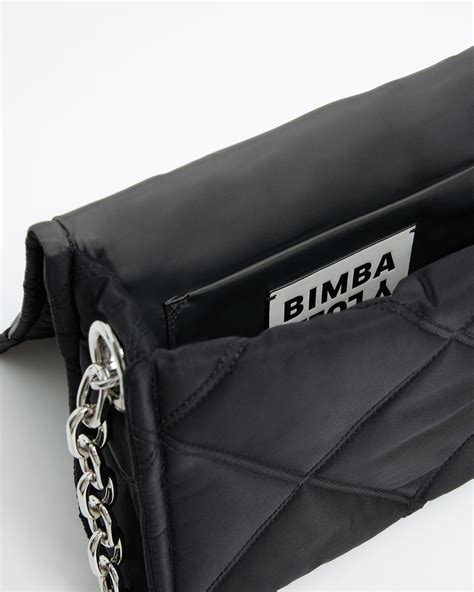nylon: (1, 46, 474, 592)
